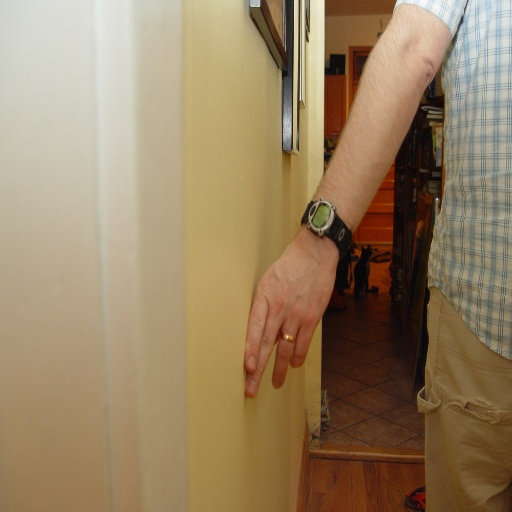hand: (252, 206, 360, 412)
